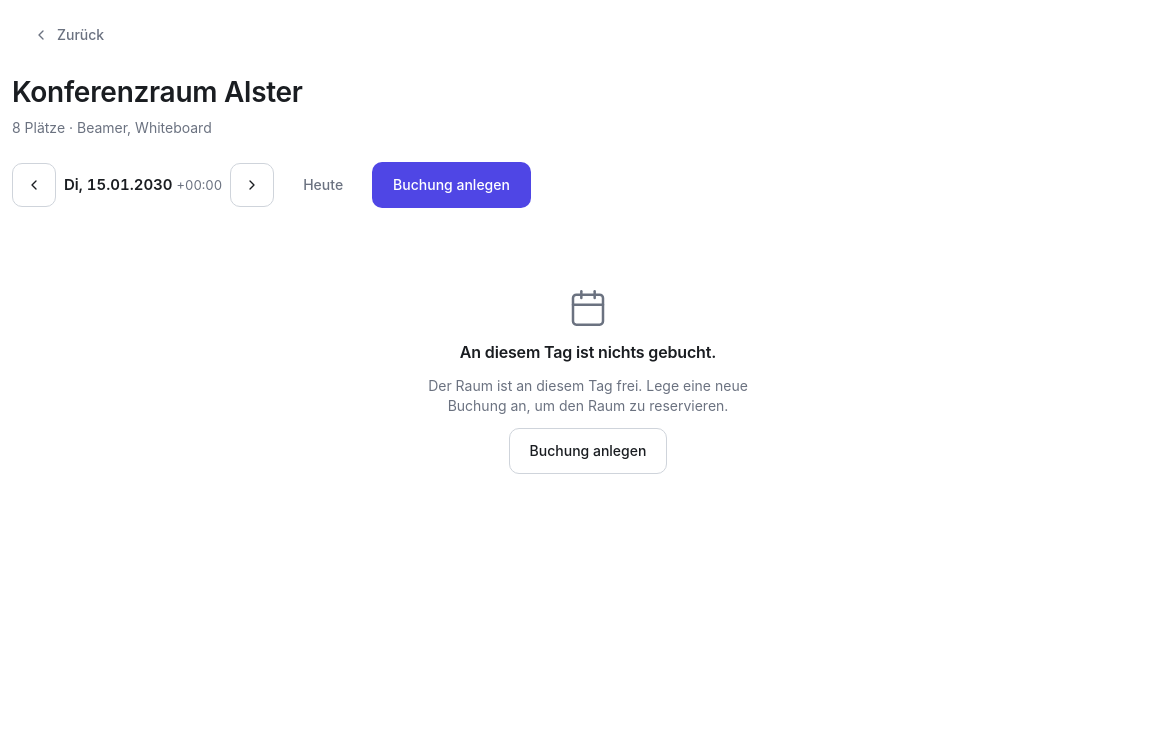
RoomDay booking form › starts without error marks and validates required fields on submit
This screenshot has width=1176, height=732.
Expected: the heading "An diesem Tag ist nichts gebucht." is shown, [460,340,716,364]
Click the button "Buchung anlegen" in the row of "+00:00" at (452, 185), box [372,162,531,208]
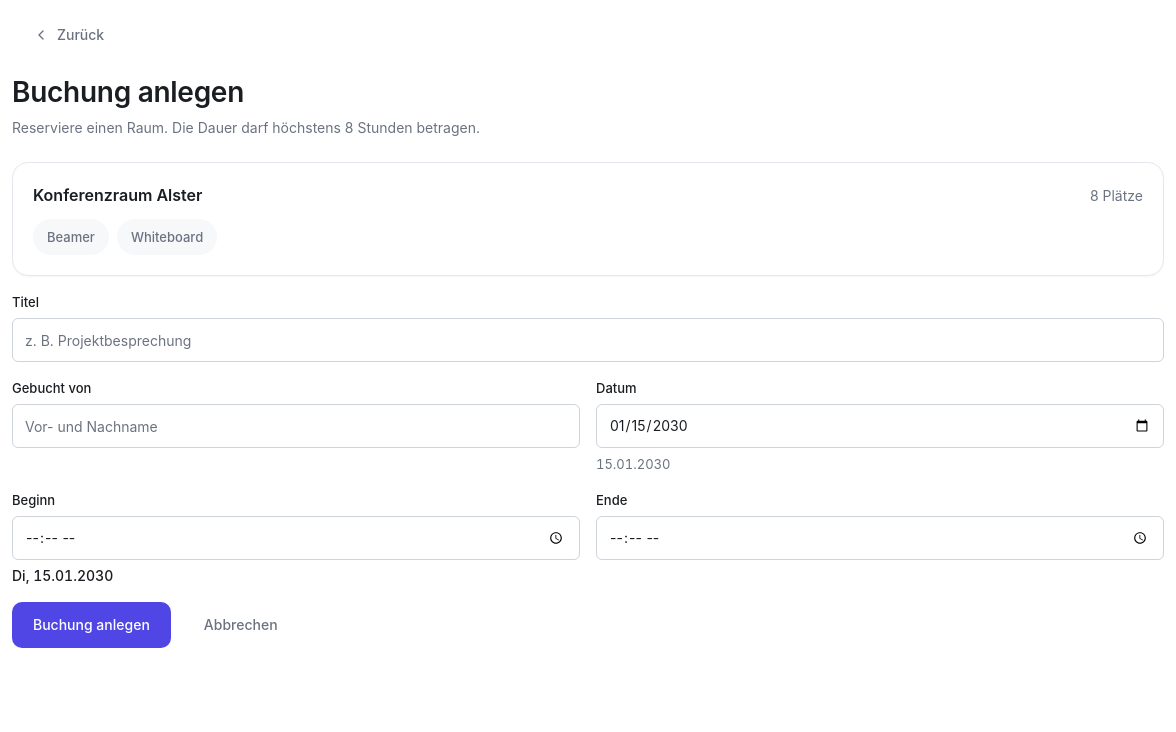
Expected: the text "Bitte gib einen Titel an." is not shown
Expected: the heading "Buchung anlegen" is shown, [12,75,244,109]
Click the button "Buchung anlegen" at (91, 625), box [12,602,171,648]
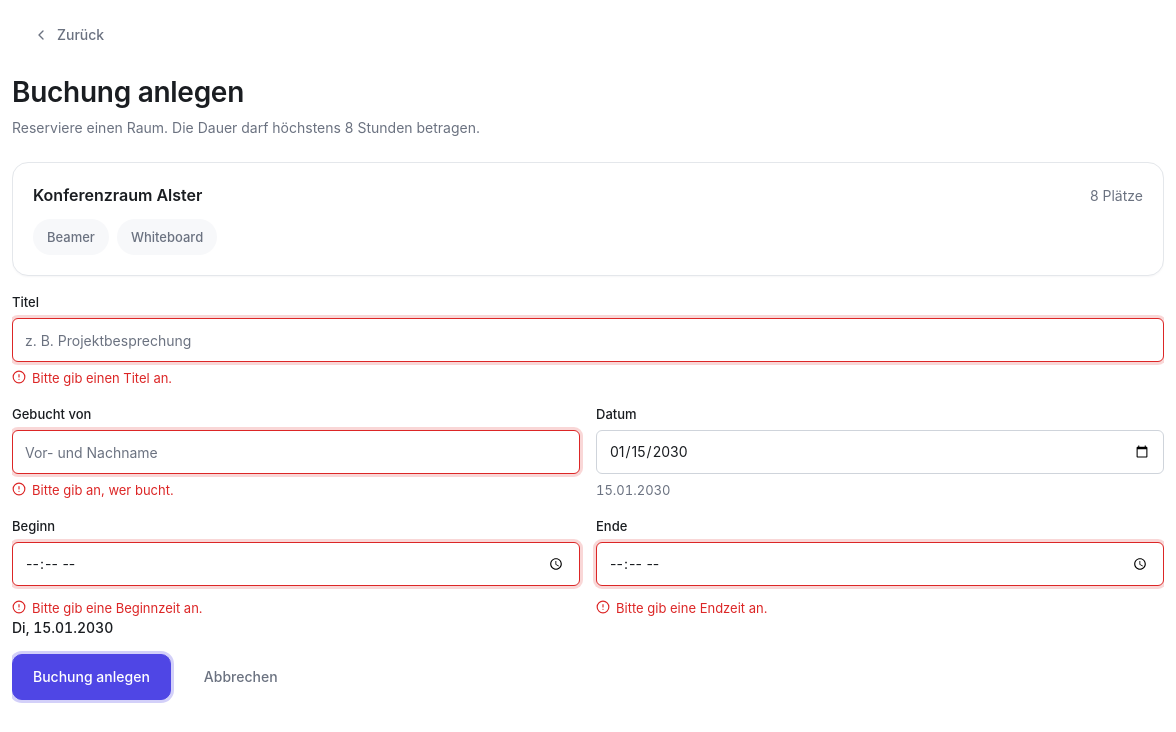
Expected: the text "Bitte gib einen Titel an." is shown, [32,368,172,388]
Expected: the text "Bitte gib an, wer bucht." is shown, [32,480,174,500]
Expected: the text "Bitte gib eine Beginnzeit an." is shown, [32,598,203,618]
